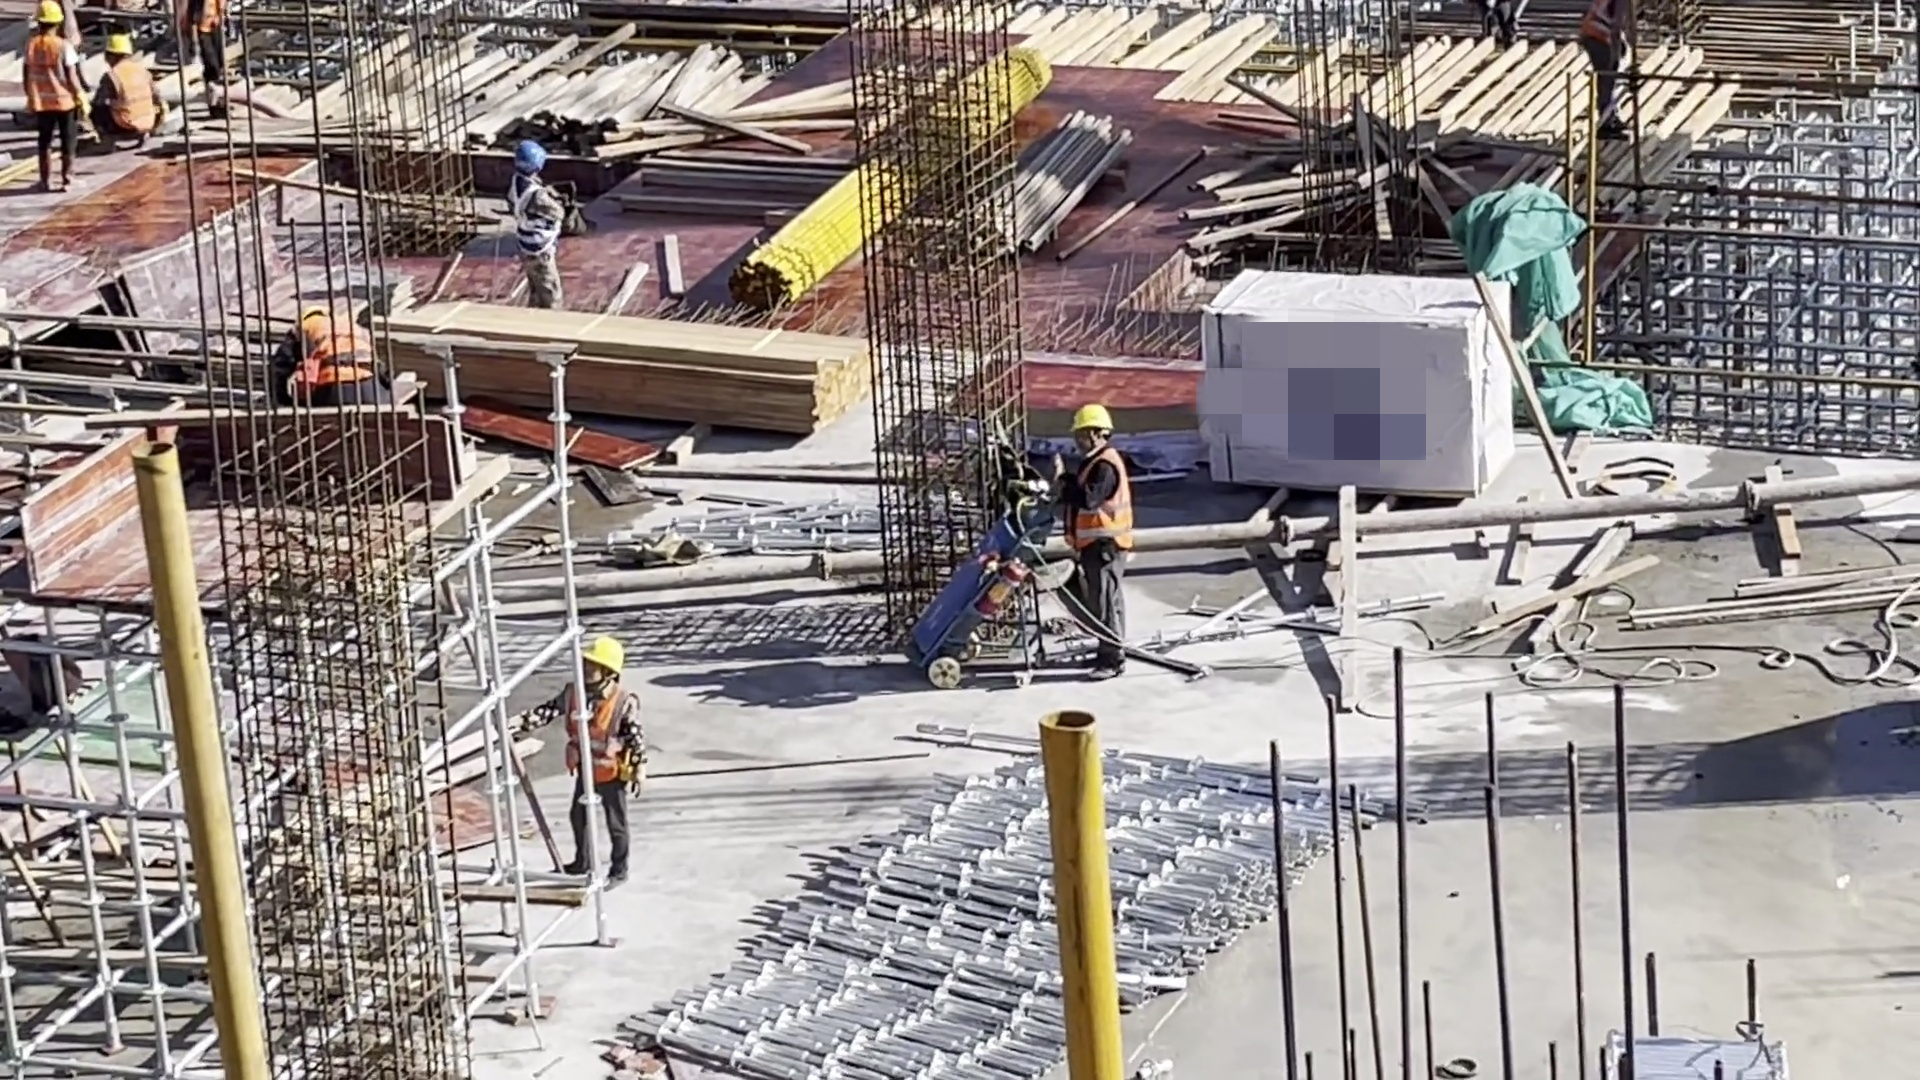helmet: (580, 635, 620, 677), (513, 131, 548, 175), (1070, 405, 1115, 434), (33, 3, 62, 25), (109, 36, 135, 53)
person: (533, 632, 658, 900), (1066, 400, 1144, 679), (270, 297, 396, 432), (493, 131, 578, 315), (92, 38, 167, 171), (25, 4, 77, 194), (1580, 4, 1647, 148), (185, 4, 255, 122)
vest: (562, 683, 635, 780), (1073, 451, 1139, 553), (298, 317, 374, 386), (102, 60, 161, 134), (504, 180, 557, 251), (28, 40, 76, 110), (1581, 2, 1618, 42)
